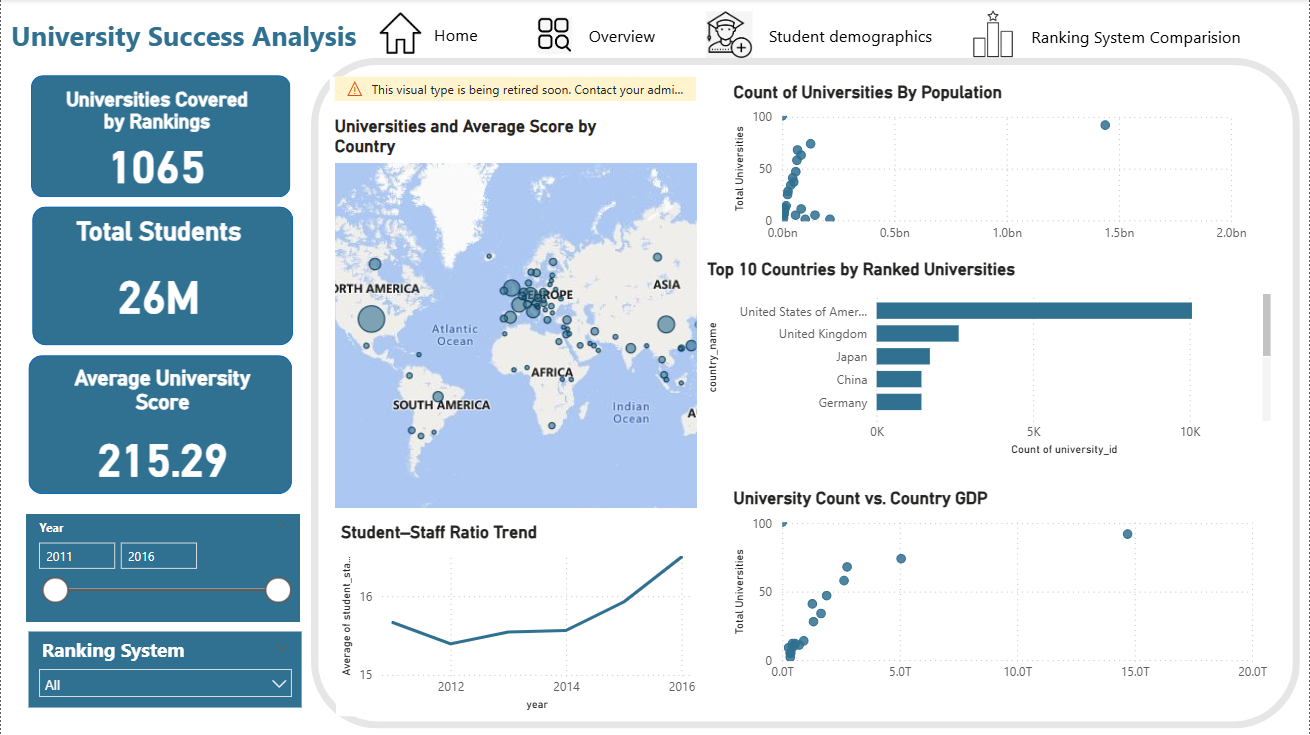

What the dashboard file says about the page in this screenshot:
{"tool":"powerbi","page":{"name":"Overview Dashboard","canvas":[1280,720],"ordinal":1},"visuals":[{"type":"shape","box":[303.8,63.8,967.5,656.2],"z":0},{"type":"shape","box":[28.3,73.8,254.8,148.7],"z":1000,"group":"g1"},{"type":"shape","box":[27.4,233.1,255.4,147.4],"z":1000},{"type":"card","title":"Count of University","fields":{"Values":["Count(university.university_name)"]},"box":[39.2,91.8,228.3,130.9],"z":2000,"group":"g1"},{"type":"shape","box":[29.1,392.6,257.1,157.7],"z":2000},{"type":"card","title":"avg of studet staff ratio","fields":{"Values":["All Measures.Average Overall Score"]},"box":[45.1,406.3,221.7,126.5],"z":3000},{"type":"card","title":"sum of no of students","fields":{"Values":["Sum(university_year.num_students)"]},"box":[45.1,249.2,221.7,118.2],"z":4000},{"type":"group","id":"g1","title":"Group 1","box":[28.3,73.8,254.8,148.9],"z":5000},{"type":"slicer","fields":{"Values":["university_year.year"]},"box":[28.3,567.4,257.2,125.5],"z":6000},{"type":"map","fields":{"Category":["country.country_name"],"Size":["CountNonNull(university.university_name)"]},"box":[321.8,82.7,363.6,420.9],"z":7000},{"type":"barChart","title":"Top 10 Countries with the Highest Number of Ranked Universities","fields":{"Category":["country.country_name"],"Y":["CountNonNull(university_ranking_year.university_id)"]},"box":[700,91.2,538.8,276.2],"z":8000},{"type":"lineChart","fields":{"Y":["Avg(university_year.student_staff_ratio)"],"Category":["university_year.year"]},"box":[328.8,517.5,356.2,190],"z":9000},{"type":"image","title":"icon1","box":[365,0,53.3,65],"z":10000},{"type":"image","title":"icon 2","box":[516.7,11.7,48.3,46.7],"z":11000},{"type":"textbox","box":[5,11.7,348.3,46.7],"z":12000},{"type":"image","title":"icon 3","box":[685,5,55,60],"z":13000},{"type":"image","title":"icon 4","box":[943.8,5,52.5,60],"z":14000},{"type":"actionButton","title":"Home button","box":[418.8,18.8,53.8,31.2],"z":15000},{"type":"actionButton","title":"Overview button","box":[566.2,20,82.5,31.2],"z":16000},{"type":"actionButton","title":"Student Demographics button","box":[740,20,182.5,31.2],"z":17000},{"type":"actionButton","title":"Ranking System Comparison Button","box":[996.2,21.2,227.5,31.2],"z":18000},{"type":"scatterChart","title":"Count of Universities By Country GDP","fields":{"X":["universities country_gdp_vs_countof_uni.YEAR_2020"],"Y":["universities country_gdp_vs_countof_uni.total_universities"]},"box":[712.5,367.5,532.5,325],"z":20001}]}

Visuals, with their boxes on the page's 1280x720 design canvas (x1, y1, x2, y2). These are canvas units, not pixel positions in the 1310x735 screenshot, which may show the page scaled, cropped or inside an application window:
shape: <region>304, 64, 1271, 720</region>
shape: <region>28, 74, 283, 222</region>
shape: <region>27, 233, 283, 380</region>
"Count of University" card: <region>39, 92, 268, 223</region>
shape: <region>29, 393, 286, 550</region>
"avg of studet staff ratio" card: <region>45, 406, 267, 533</region>
"sum of no of students" card: <region>45, 249, 267, 367</region>
"Group 1" group: <region>28, 74, 283, 223</region>
slicer - university_year.year: <region>28, 567, 286, 693</region>
map - country.country_name x CountNonNull(university.university_name): <region>322, 83, 685, 504</region>
"Top 10 Countries with the Highest Number of Ranked Universities" barChart: <region>700, 91, 1239, 367</region>
lineChart - Avg(university_year.student_staff_ratio) x university_year.year: <region>329, 518, 685, 708</region>
"icon1" image: <region>365, 0, 418, 65</region>
"icon 2" image: <region>517, 12, 565, 58</region>
textbox: <region>5, 12, 353, 58</region>
"icon 3" image: <region>685, 5, 740, 65</region>
"icon 4" image: <region>944, 5, 996, 65</region>
"Home button" actionButton: <region>419, 19, 473, 50</region>
"Overview button" actionButton: <region>566, 20, 649, 51</region>
"Student Demographics button" actionButton: <region>740, 20, 922, 51</region>
"Ranking System Comparison Button" actionButton: <region>996, 21, 1224, 52</region>
"Count of Universities By Country GDP" scatterChart: <region>712, 368, 1245, 692</region>
